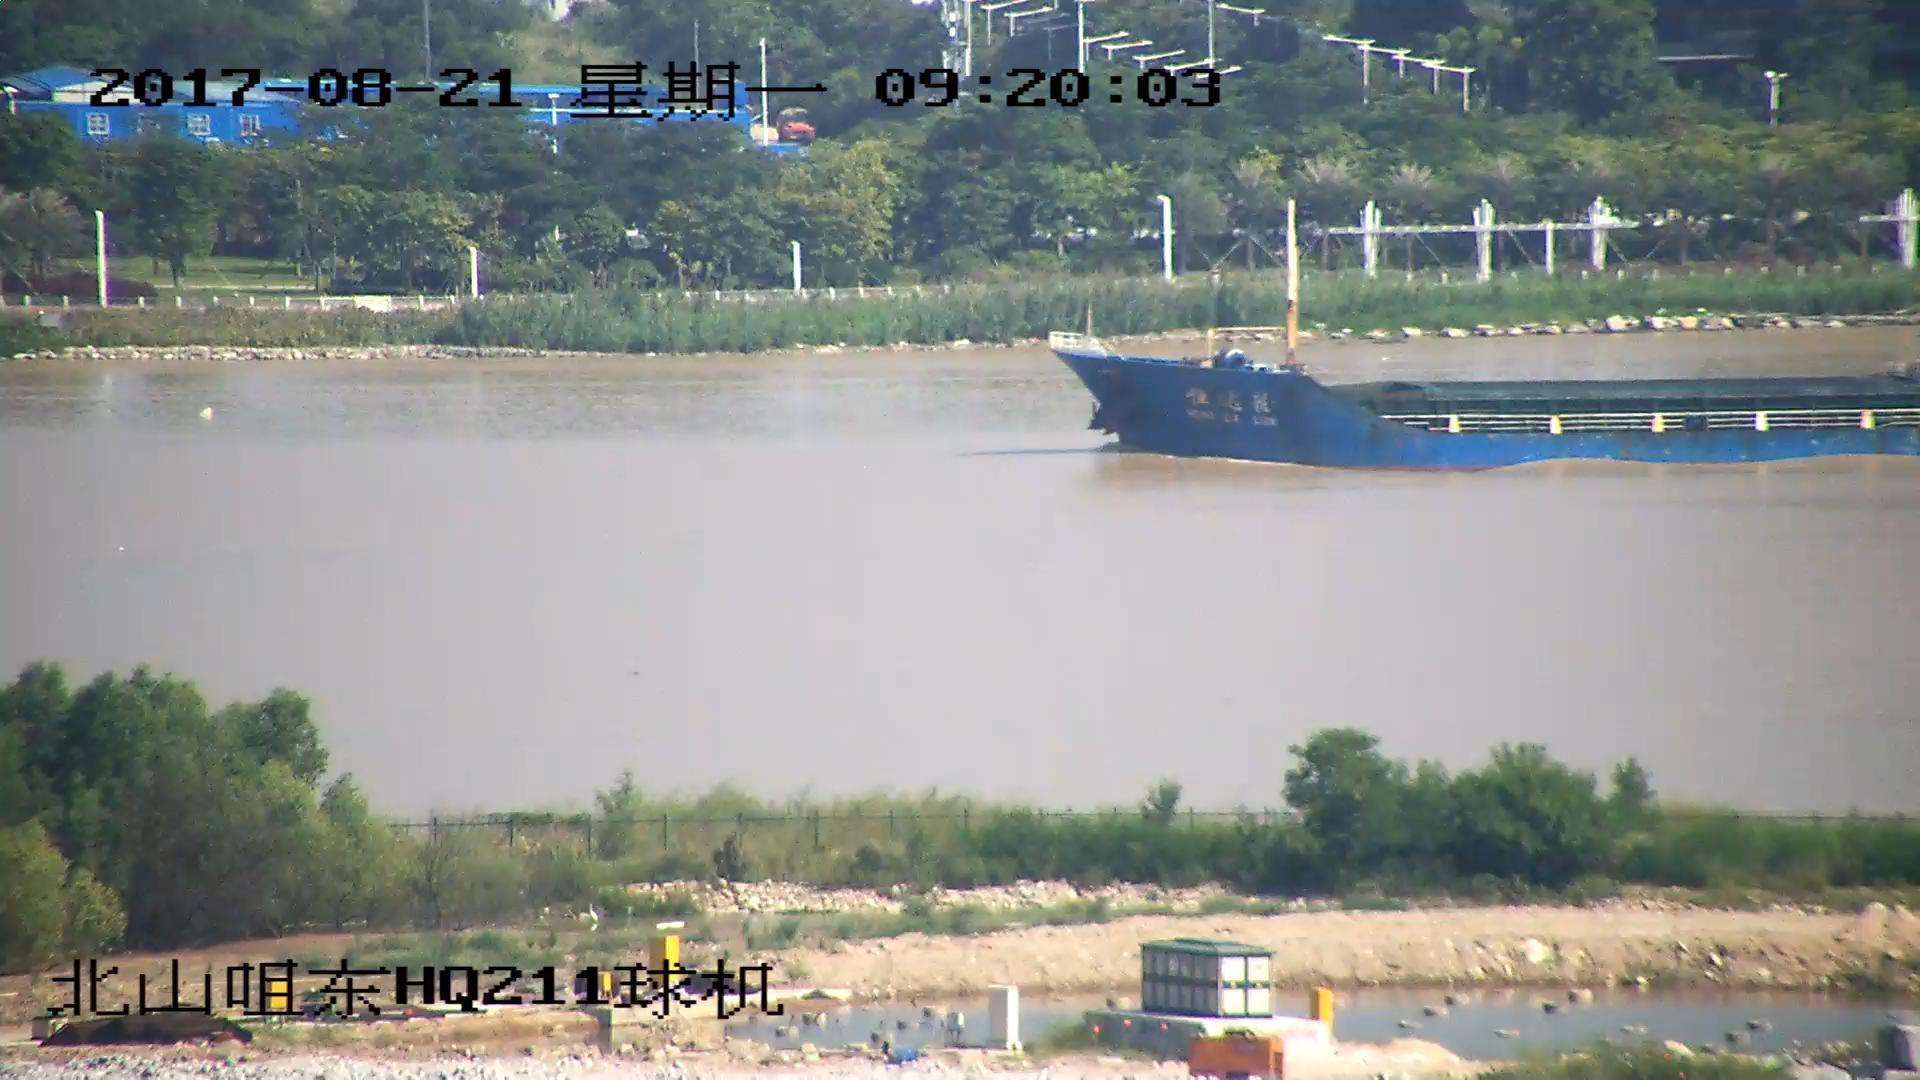Ship: (1056, 207, 1920, 473)
